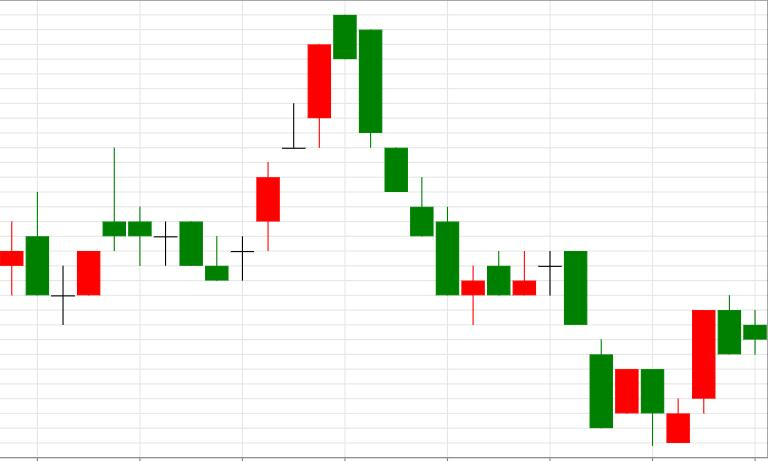three_black_crows_fall: (231, 15, 434, 281)
